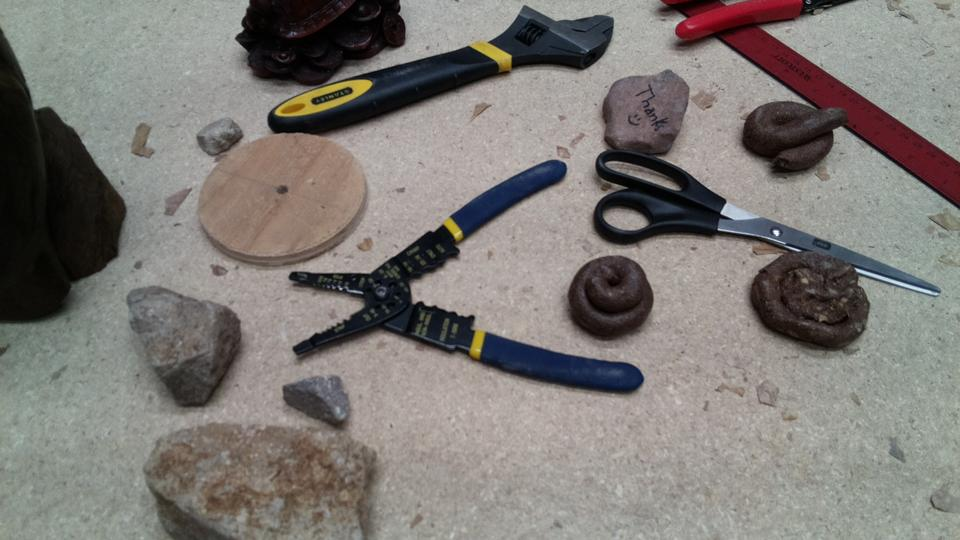poop: (747, 247, 873, 353), (739, 99, 850, 175), (565, 253, 655, 340)
